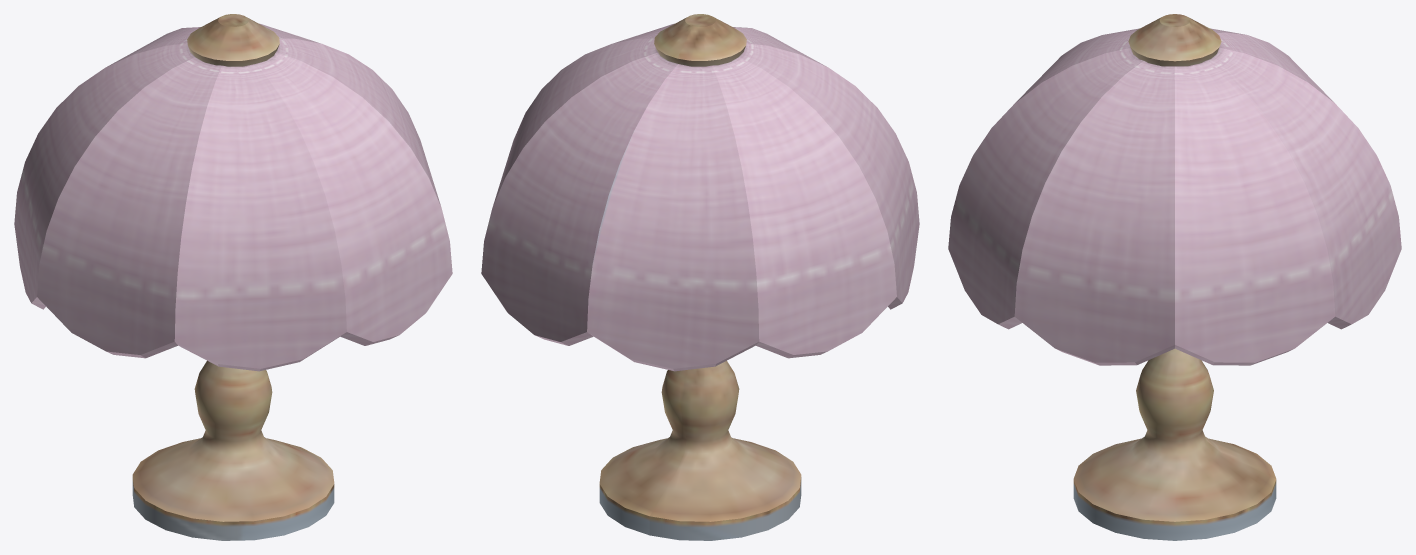
The model's file is SM_prop_Stage1_Stand_Small.fbx.
3 renders of one model, left to right at view 1: azimuth 30°, elevation 25°; view 2: azimuth 150°, elevation 25°; view 3: azimuth 270°, elevation 25°, orthographic.
Visible parts, largest first — view 1: SM_prop_Stage1_Stand_Small; view 2: SM_prop_Stage1_Stand_Small; view 3: SM_prop_Stage1_Stand_Small.
Part boxes in pixels (bbox=[...]): SM_prop_Stage1_Stand_Small: bbox=[14, 14, 452, 540]; SM_prop_Stage1_Stand_Small: bbox=[481, 14, 919, 540]; SM_prop_Stage1_Stand_Small: bbox=[948, 14, 1401, 540].
Bounding box in the file's own units: 33.68 × 39.13 × 33.68.
1 material, 1 textured.
